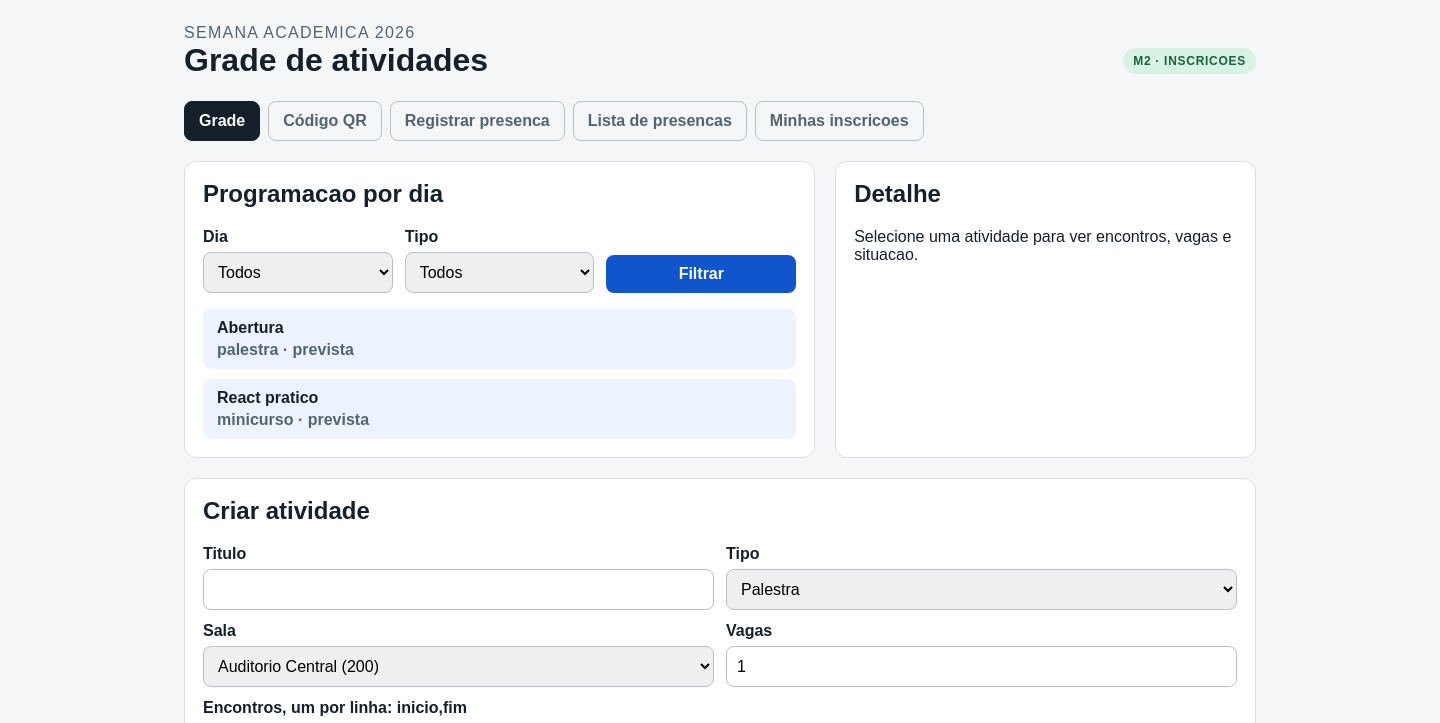
Scenario: M2 inscricoes › lista status, espera, convocacao com contagem regressiva e confirma
Click the button "Minhas inscricoes" at (839, 121), box x1=755 y1=101 x2=924 y2=141
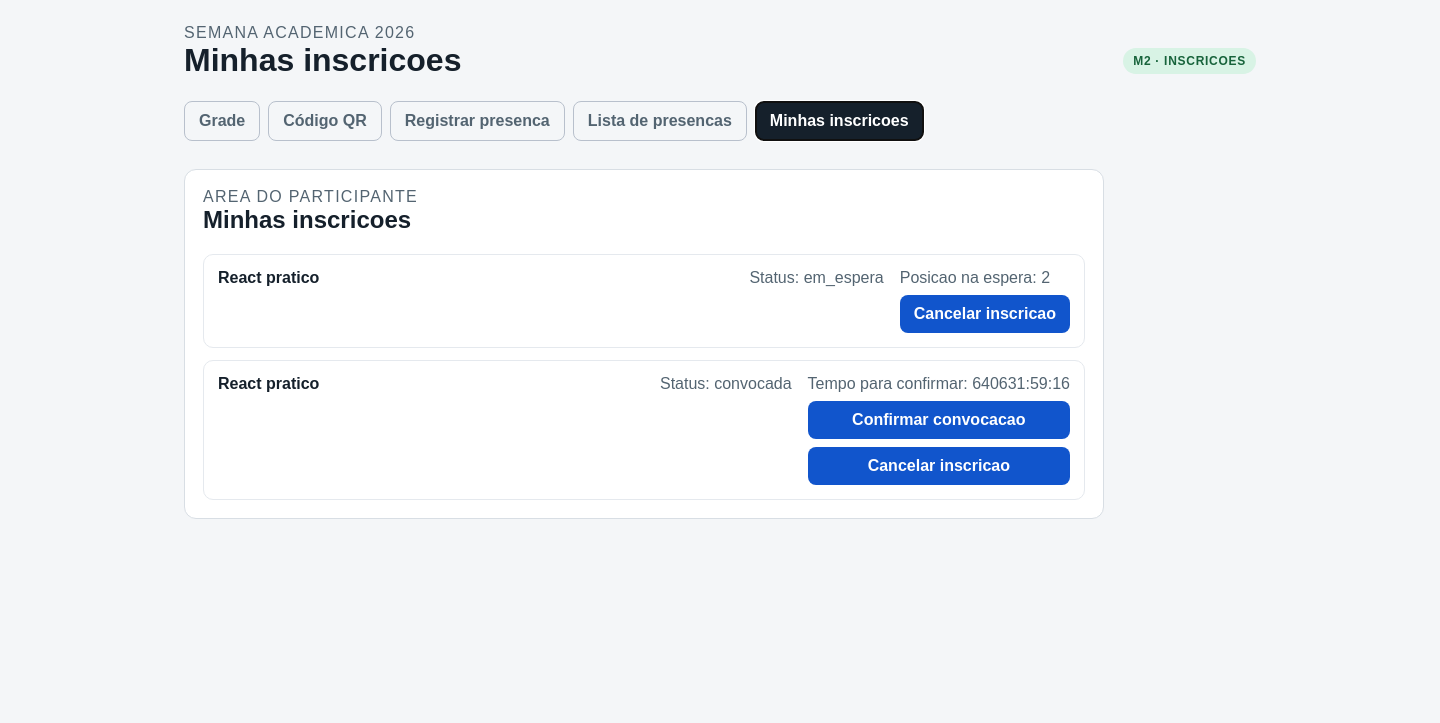
Result: the text "Posicao na espera: 2" is shown at x1=900 y1=269 x2=1070 y2=287
Result: the text "Tempo para confirmar: 640631:59:16" is shown at x1=808 y1=375 x2=1070 y2=393
Click the button "Confirmar convocacao" at (939, 420), box x1=808 y1=401 x2=1070 y2=439
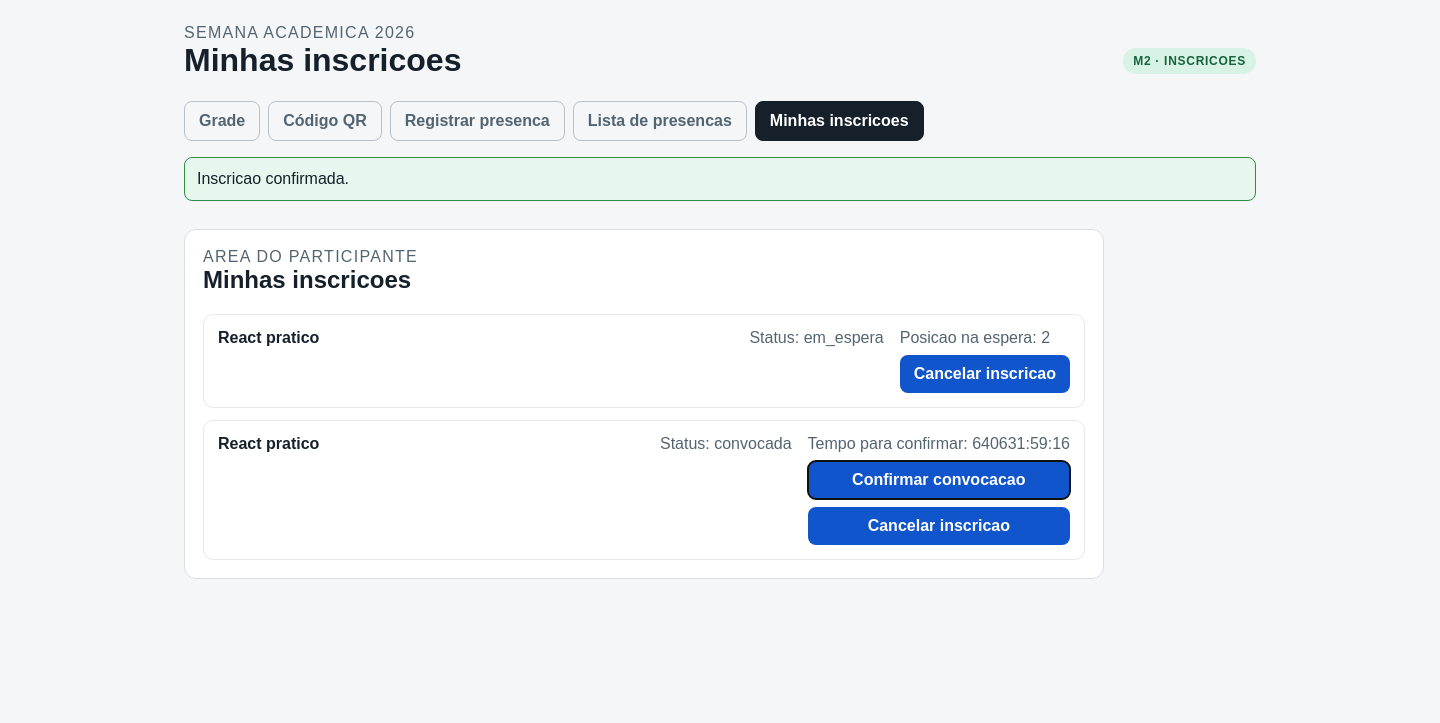
Result: the text "Inscricao confirmada." is shown at x1=184 y1=157 x2=1256 y2=201
